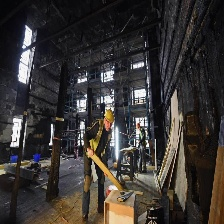helmet: (102, 109, 116, 124)
person: (81, 106, 115, 222)
vest: (90, 119, 111, 170)
